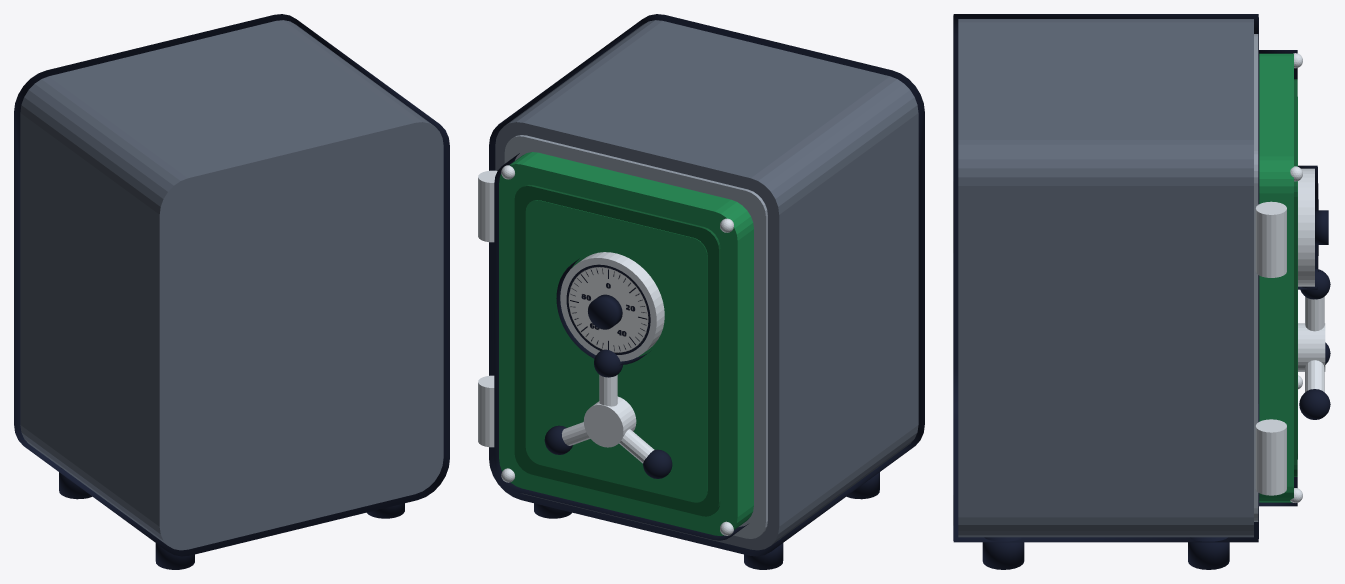
The model's file is Coffre_Fort.glb.
3 renders of one model, left to right at view 1: azimuth 30°, elevation 25°; view 2: azimuth 150°, elevation 25°; view 3: azimuth 270°, elevation 25°, orthographic. The views are drawn at different scales.
Visible parts, largest first — view 1: Coffre_Corps; view 2: Coffre_Corps, Coffre_Porte; view 3: Coffre_Corps, Coffre_Porte.
Boxes of the visible parts, bbox=[...] form: Coffre_Corps: bbox=[14, 14, 449, 569]; Coffre_Corps: bbox=[478, 14, 924, 569]; Coffre_Porte: bbox=[494, 152, 753, 540]; Coffre_Corps: bbox=[953, 14, 1286, 569]; Coffre_Porte: bbox=[1258, 50, 1330, 506].
Bounding box in the file's own units: 1.04 × 1.36 × 1.08.
Materials: 7 (1 with a texture image).
